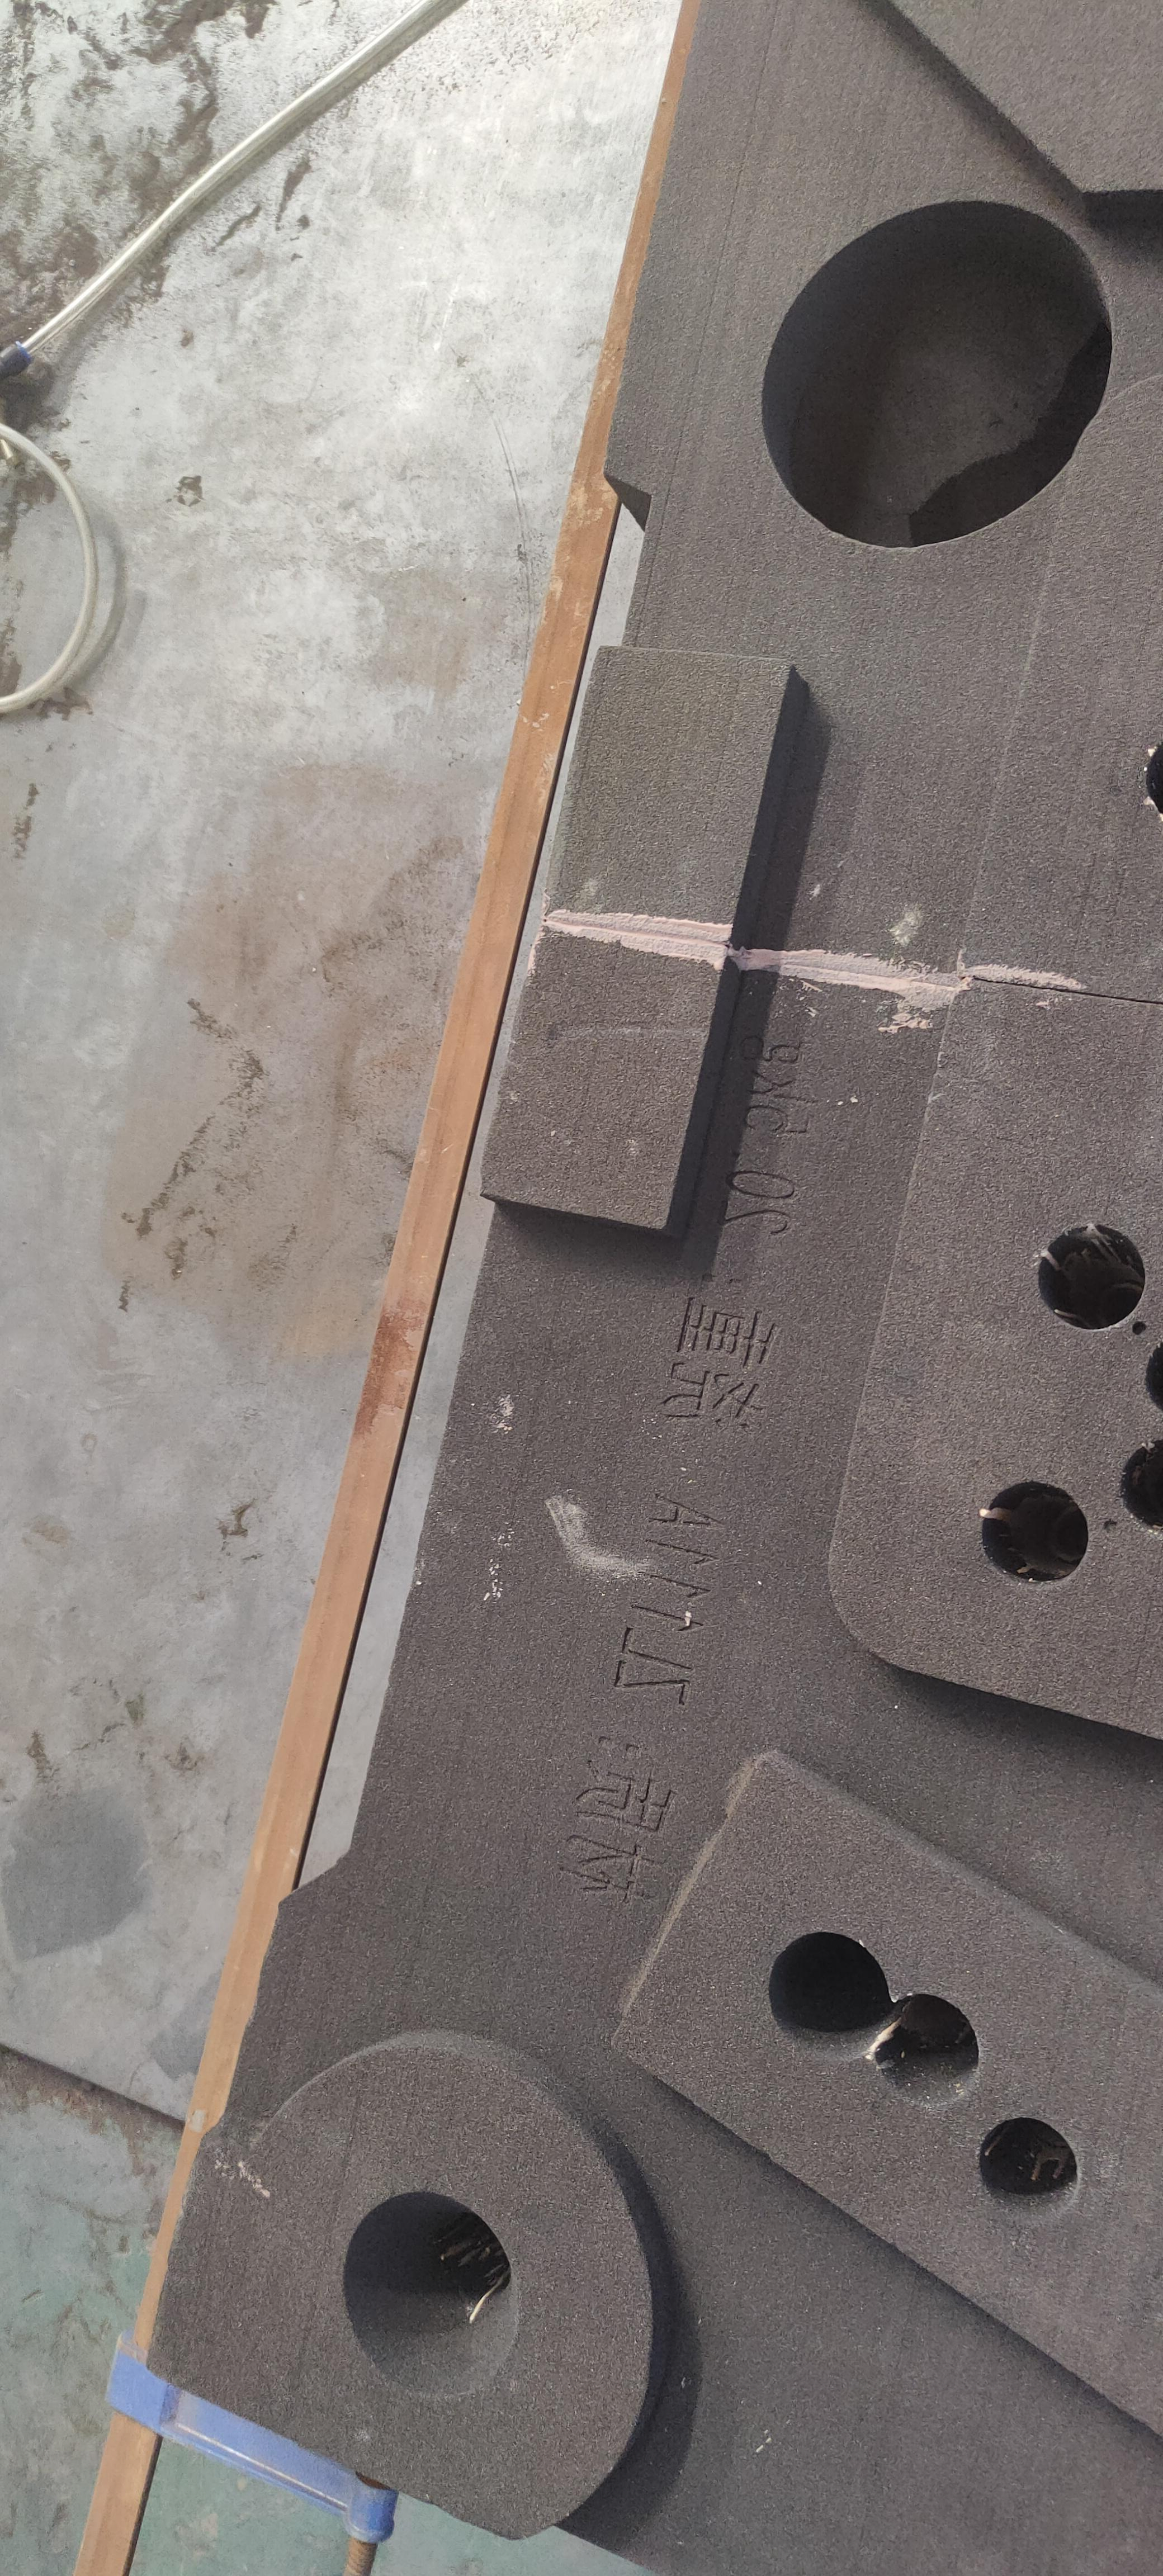pouring hole: (342, 2190, 517, 2399)
